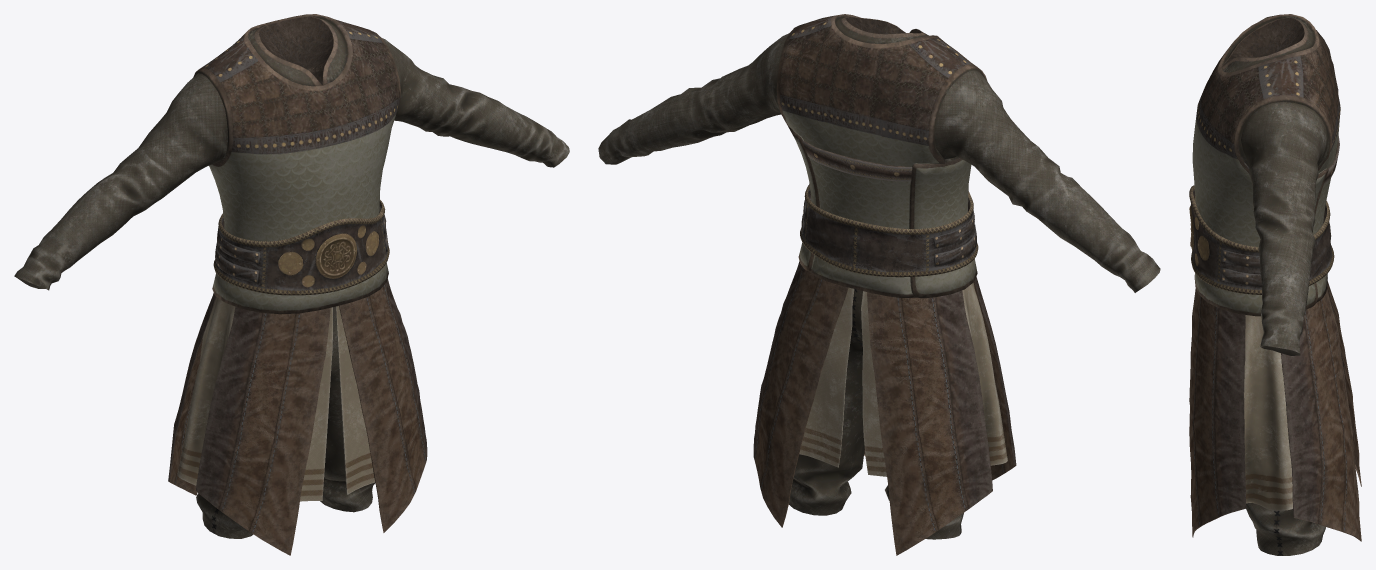
Rendered from dunland_wulf_scalemail_heavy_d.fbx.
The picture shows the model from 3 angles, left to right: view 1: azimuth 30°, elevation 25°; view 2: azimuth 150°, elevation 25°; view 3: azimuth 270°, elevation 25°; orthographic projection.
Parts seen in each view (by area): view 1: dunland_wulf_scalemail_heavy_d.base, dunland_wulf_scalemail_heavy_d.leatherskirt, dunland_wulf_scalemail_heavy_d.belt, dunland_wulf_scalemail_heavy_d.skirt; view 2: dunland_wulf_scalemail_heavy_d.base, dunland_wulf_scalemail_heavy_d.leatherskirt, dunland_wulf_scalemail_heavy_d.skirt, dunland_wulf_scalemail_heavy_d.belt, dunland_wulf_scalemail_heavy_d.prop; view 3: dunland_wulf_scalemail_heavy_d.base, dunland_wulf_scalemail_heavy_d.leatherskirt, dunland_wulf_scalemail_heavy_d.skirt, dunland_wulf_scalemail_heavy_d.belt.
Boxes of the visible parts, bbox=[...] form: dunland_wulf_scalemail_heavy_d.base: bbox=[14, 14, 569, 538]; dunland_wulf_scalemail_heavy_d.leatherskirt: bbox=[168, 278, 427, 555]; dunland_wulf_scalemail_heavy_d.belt: bbox=[213, 200, 389, 295]; dunland_wulf_scalemail_heavy_d.skirt: bbox=[177, 297, 374, 501]; dunland_wulf_scalemail_heavy_d.base: bbox=[598, 14, 1160, 539]; dunland_wulf_scalemail_heavy_d.leatherskirt: bbox=[753, 261, 1016, 555]; dunland_wulf_scalemail_heavy_d.skirt: bbox=[799, 282, 1007, 476]; dunland_wulf_scalemail_heavy_d.belt: bbox=[800, 184, 978, 277]; dunland_wulf_scalemail_heavy_d.prop: bbox=[802, 141, 912, 181]; dunland_wulf_scalemail_heavy_d.base: bbox=[1192, 14, 1340, 555]; dunland_wulf_scalemail_heavy_d.leatherskirt: bbox=[1189, 281, 1361, 541]; dunland_wulf_scalemail_heavy_d.skirt: bbox=[1244, 315, 1292, 510]; dunland_wulf_scalemail_heavy_d.belt: bbox=[1189, 185, 1334, 294].
Size of the model in its own units: 1.38 by 0.3778 by 1.18.
Materials: 4 (4 with a texture image).
